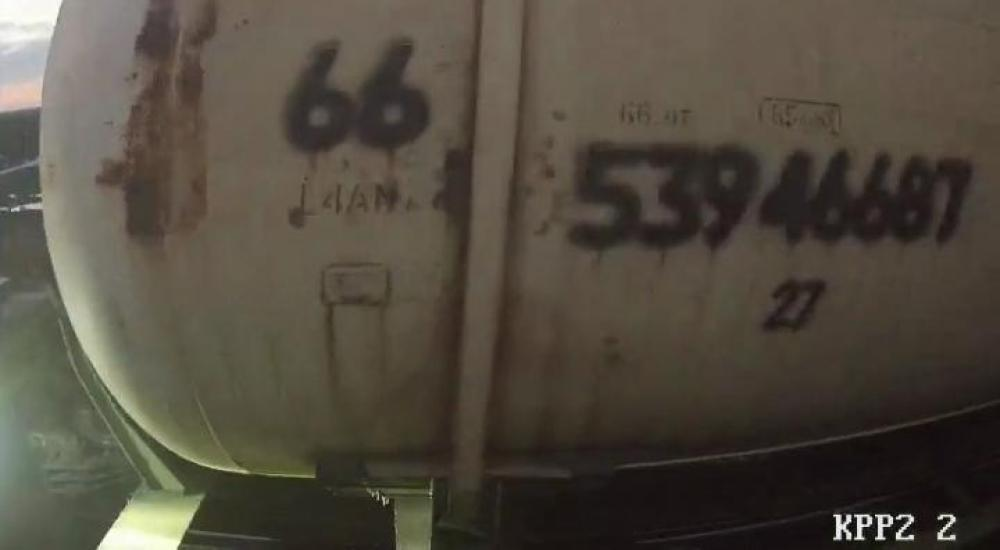Wagon-number: (564, 136, 980, 260)
